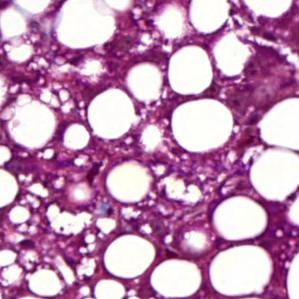steatosis: (170, 93, 234, 152), (103, 233, 156, 278), (113, 154, 156, 202), (214, 198, 260, 237), (85, 89, 129, 126)
